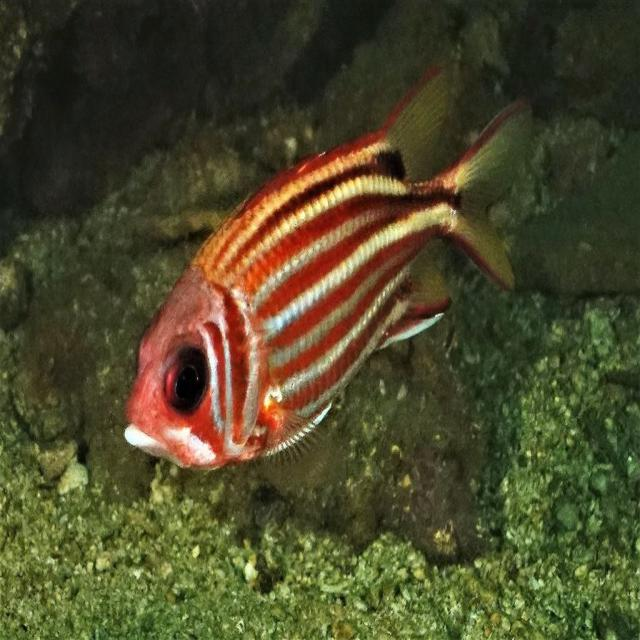Asker Baligi: (111, 39, 546, 508)
